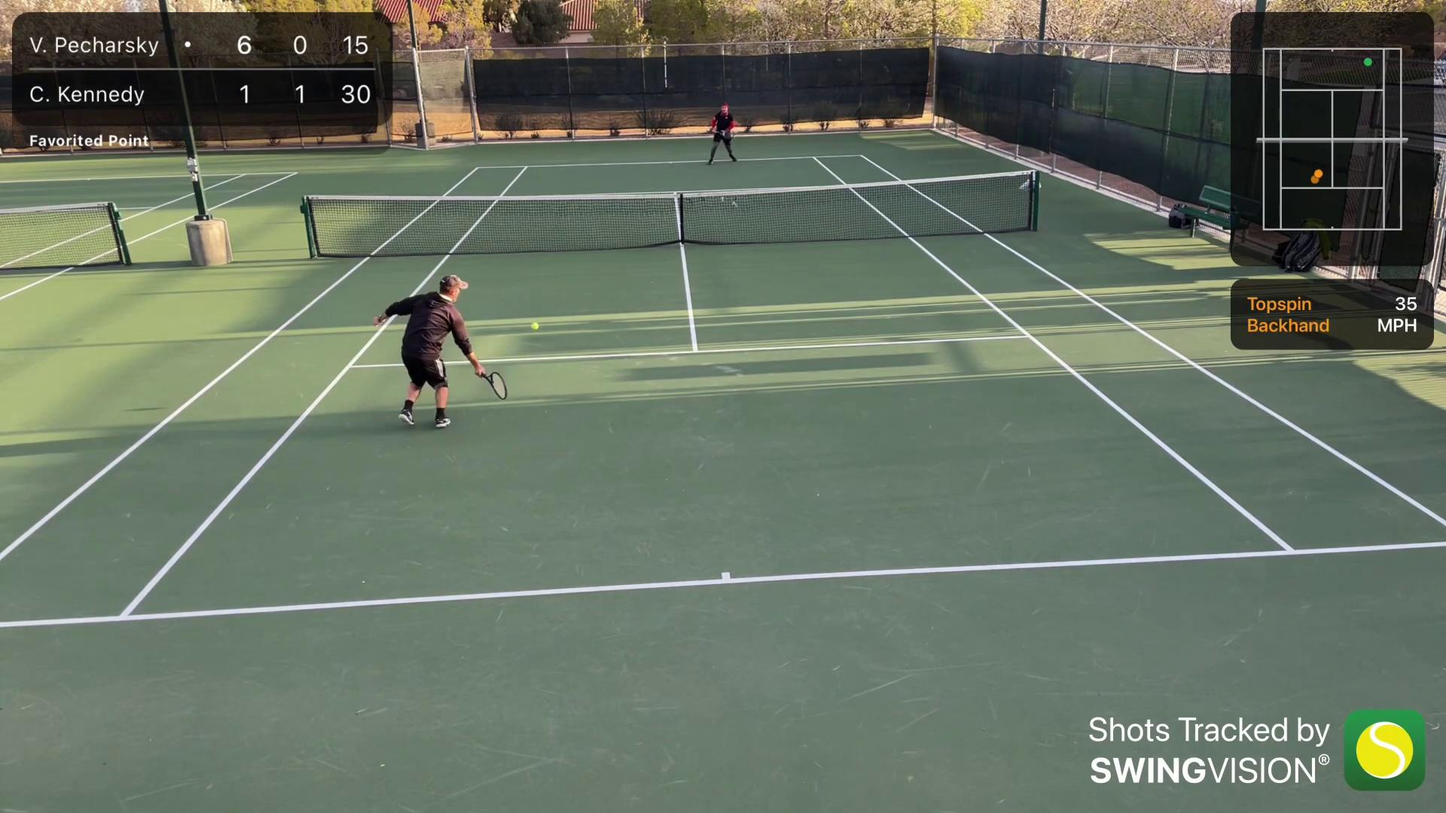ball: (529, 321, 540, 330)
